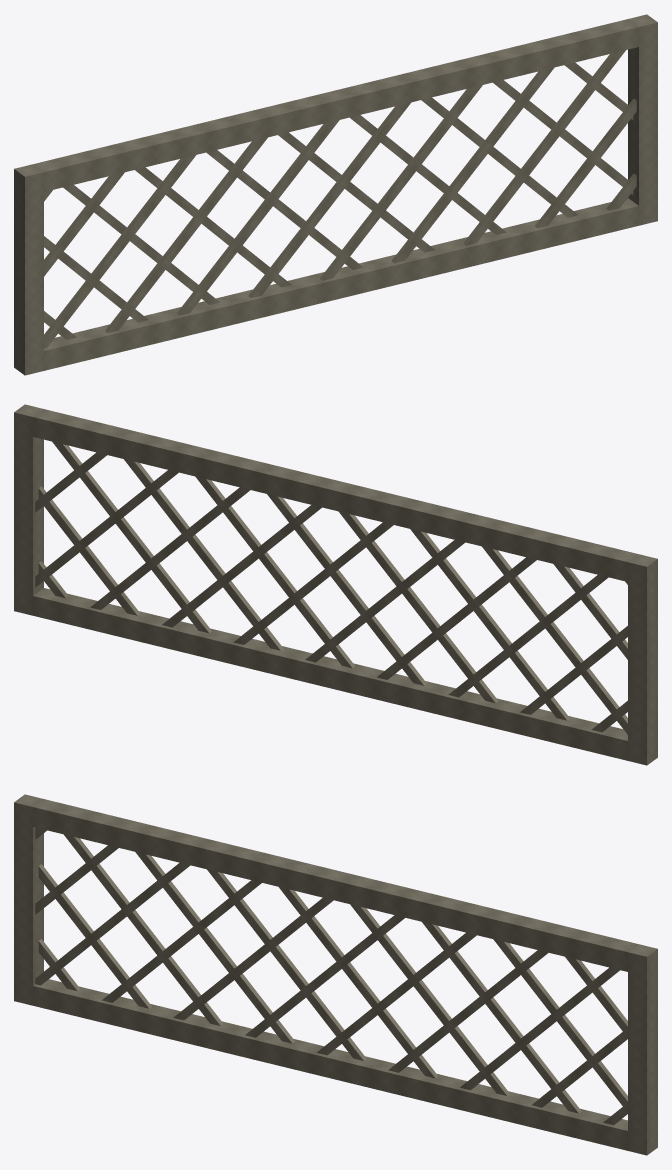
Rendered from MRP_Underfloor_Lattice_2x0p6m.fbx.
3 renders of one model, top to bottom at view 1: azimuth 30°, elevation 25°; view 2: azimuth 150°, elevation 25°; view 3: azimuth 330°, elevation 25°, orthographic.
Parts seen in each view (by area): view 1: Body; view 2: Body; view 3: Body.
Part boxes in pixels (left/top/right/bottom): Body: left=14, top=14, right=657, bottom=375; Body: left=14, top=404, right=657, bottom=765; Body: left=14, top=794, right=657, bottom=1155.
Bounding box in the file's own units: 2 × 0.6 × 0.06.
